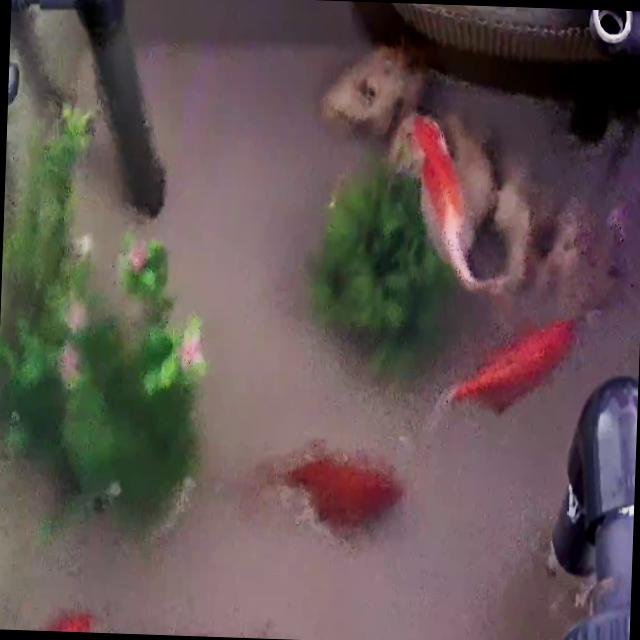fish: (401, 109, 504, 294), (446, 313, 579, 414), (272, 446, 396, 536)
